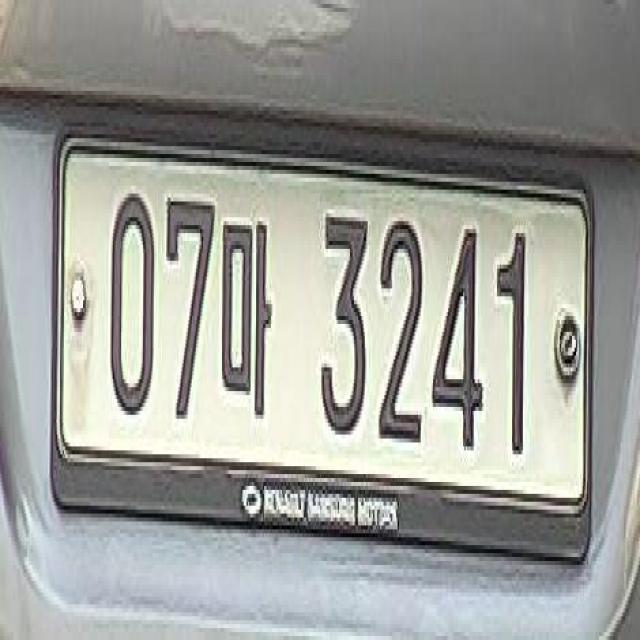illegal_plate: (52, 130, 602, 580)
